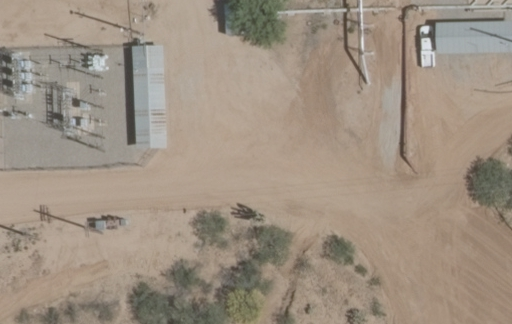DT: (121, 21, 144, 37), (80, 219, 104, 233)
